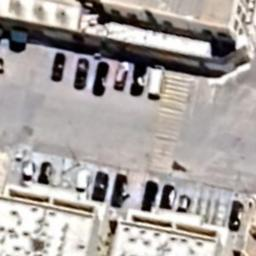SUV: (92, 170, 109, 202), (75, 170, 89, 200), (160, 182, 175, 210), (20, 160, 34, 187)
sedan: (92, 61, 109, 97), (73, 57, 89, 91), (130, 61, 145, 96), (50, 52, 66, 82), (113, 62, 129, 92), (38, 160, 52, 186)
unknown: (140, 178, 160, 214), (111, 172, 128, 206), (176, 194, 190, 212)
van: (148, 64, 164, 100), (228, 198, 244, 232)
